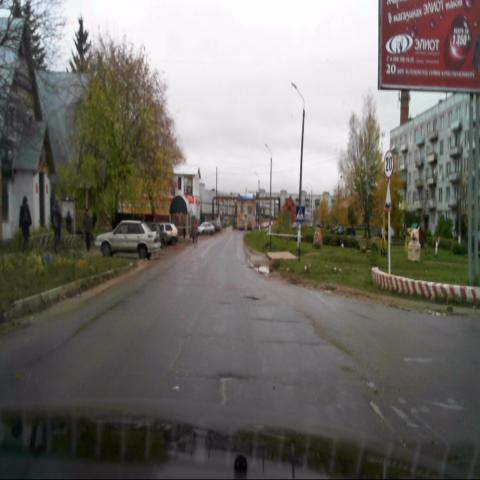1_16: (384, 181, 392, 211)
3_24: (383, 150, 394, 178)
